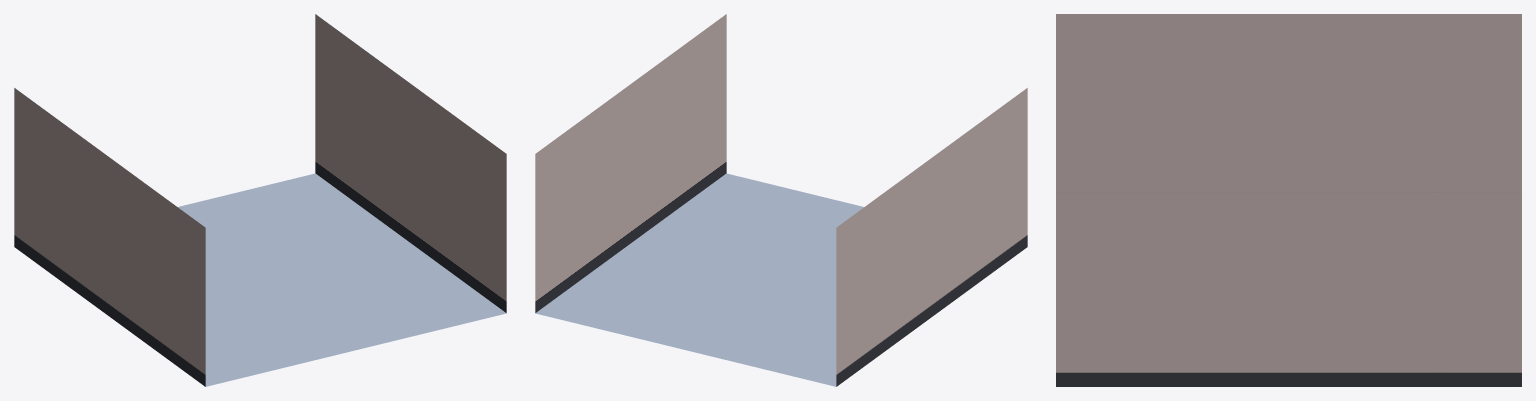
File: Another_Room.fbx
3 views of the same model, side by side, from view 1: azimuth 30°, elevation 25°; view 2: azimuth 150°, elevation 25°; view 3: azimuth 270°, elevation 25° (orthographic). The views are drawn at different scales.
Parts seen in each view (by area): view 1: Another_Room; view 2: Another_Room; view 3: Another_Room.
Part boxes in pixels (box(x1,y1,x2,y2)): Another_Room: box(14, 14, 506, 386); Another_Room: box(535, 14, 1027, 386); Another_Room: box(1056, 14, 1521, 386).
Size of the model in its own units: 447 by 226 by 491.
Materials: 1 (1 with a texture image).
